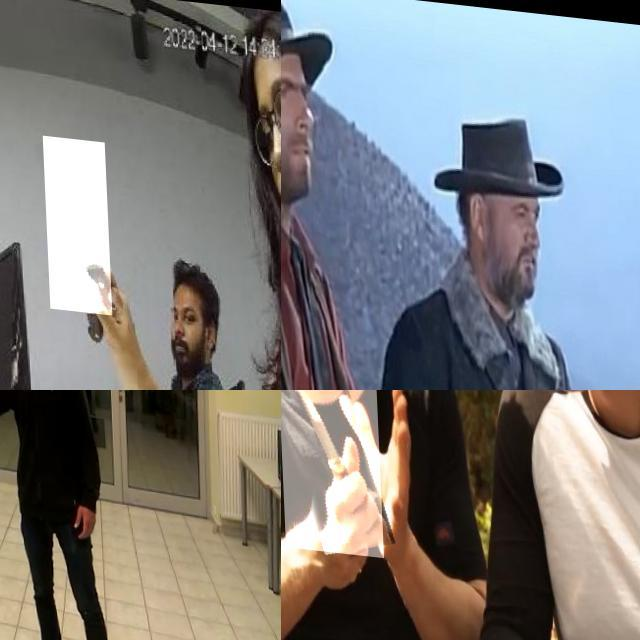-: (281, 390, 379, 553), (42, 127, 110, 306)
gun-knife-thesis - v11 Yolov5 augmented: (0, 390, 22, 410)
